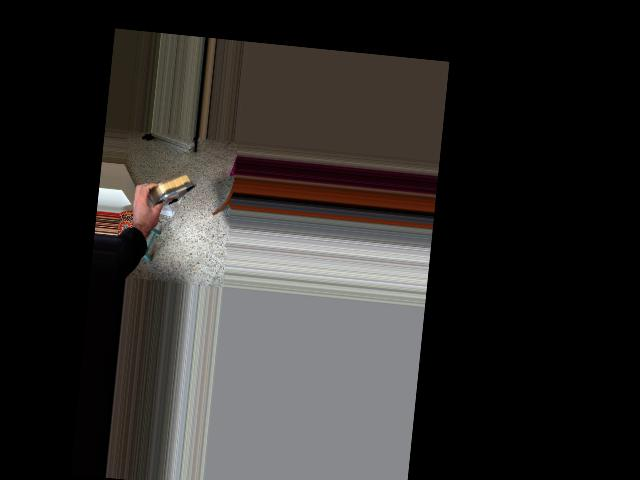cheese: (123, 158, 199, 222)
